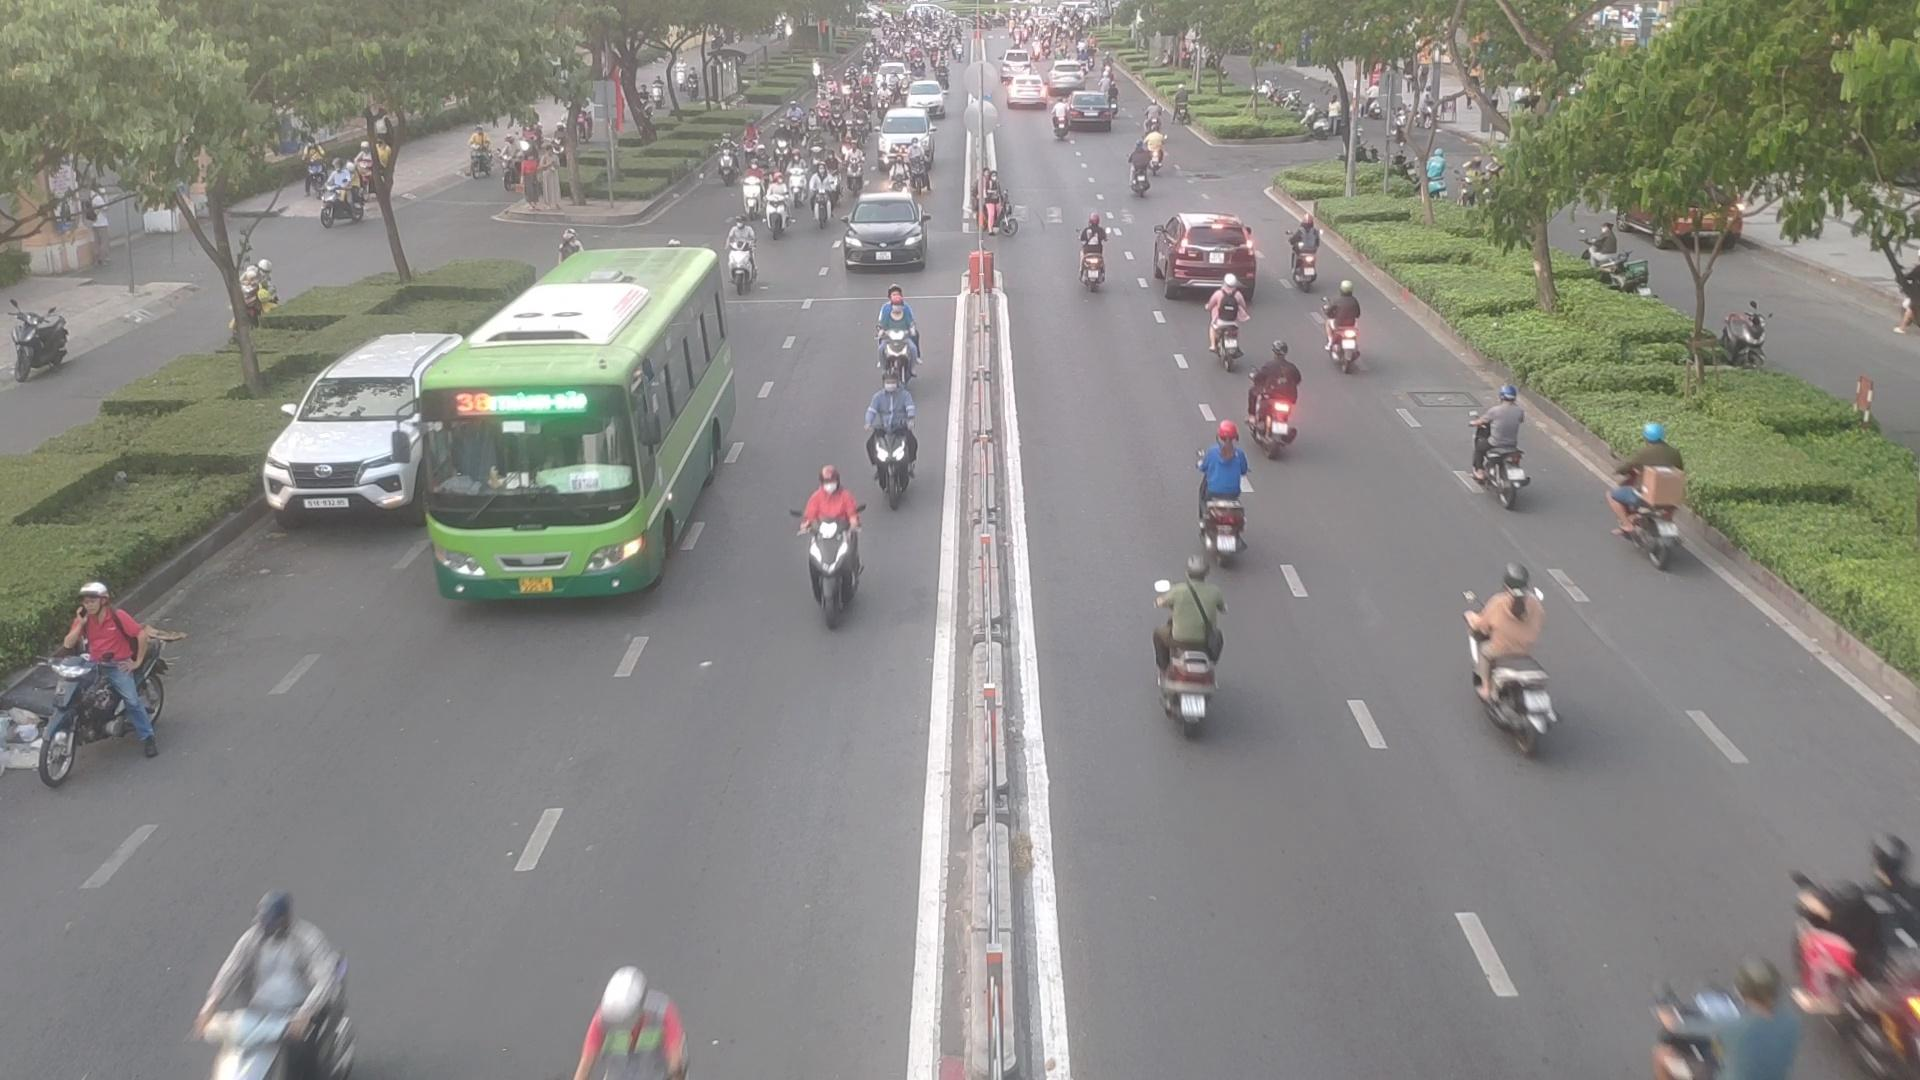bus: (431, 243, 738, 603)
car: (253, 334, 444, 526), (1159, 214, 1249, 293), (837, 195, 928, 273)
motorbike: (1791, 819, 1920, 1077), (5, 584, 169, 783), (185, 905, 351, 1080), (1462, 568, 1568, 760), (562, 975, 695, 1080), (1135, 579, 1225, 731), (1609, 422, 1701, 562), (794, 479, 878, 622), (1461, 389, 1539, 506), (1197, 433, 1262, 558), (856, 380, 924, 493), (1247, 348, 1313, 455), (1320, 287, 1375, 372), (866, 290, 920, 375), (1211, 284, 1249, 373), (1073, 214, 1114, 287), (1125, 142, 1160, 196), (756, 185, 793, 235), (818, 164, 848, 212)
